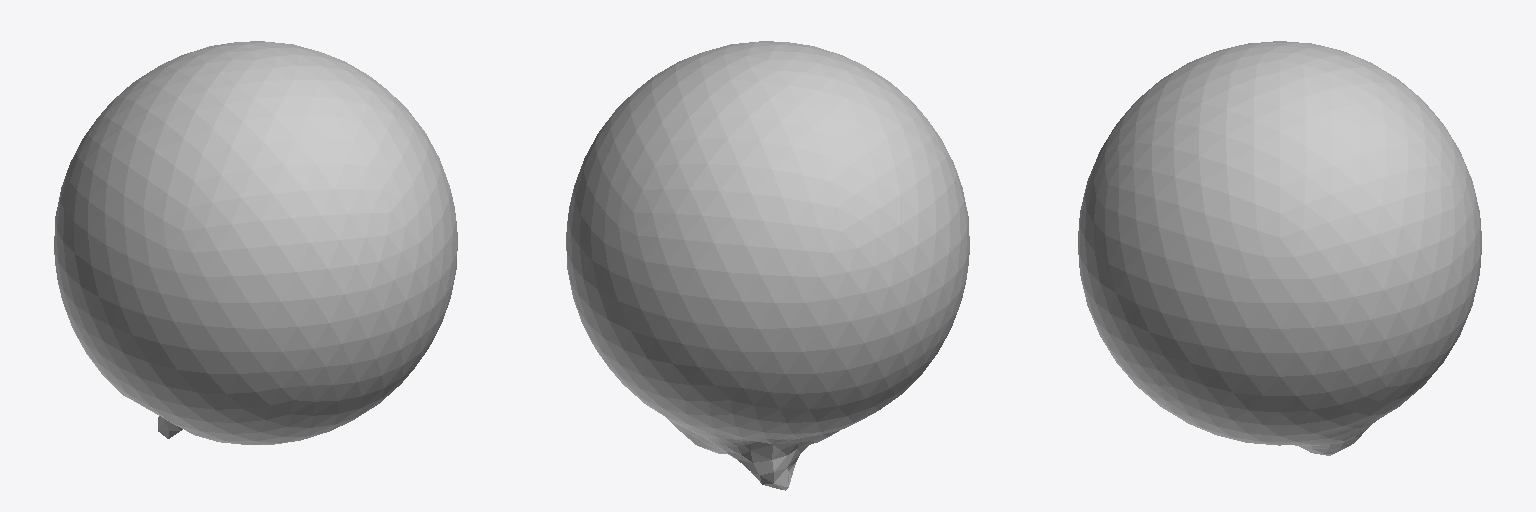
File: globe (2).obj
3 renders of one model, left to right at view 1: azimuth 30°, elevation 25°; view 2: azimuth 150°, elevation 25°; view 3: azimuth 270°, elevation 25°, orthographic.
Visible parts, largest first — view 1: Icosphere_Icosphere.002; view 2: Icosphere_Icosphere.002; view 3: Icosphere_Icosphere.002.
Boxes of the visible parts, x1,y1,x2,y2 form: Icosphere_Icosphere.002: [54, 41, 457, 444]; Icosphere_Icosphere.002: [566, 41, 969, 490]; Icosphere_Icosphere.002: [1078, 41, 1481, 455].
Bounding box in the file's own units: 7.03 × 7.51 × 7.03.